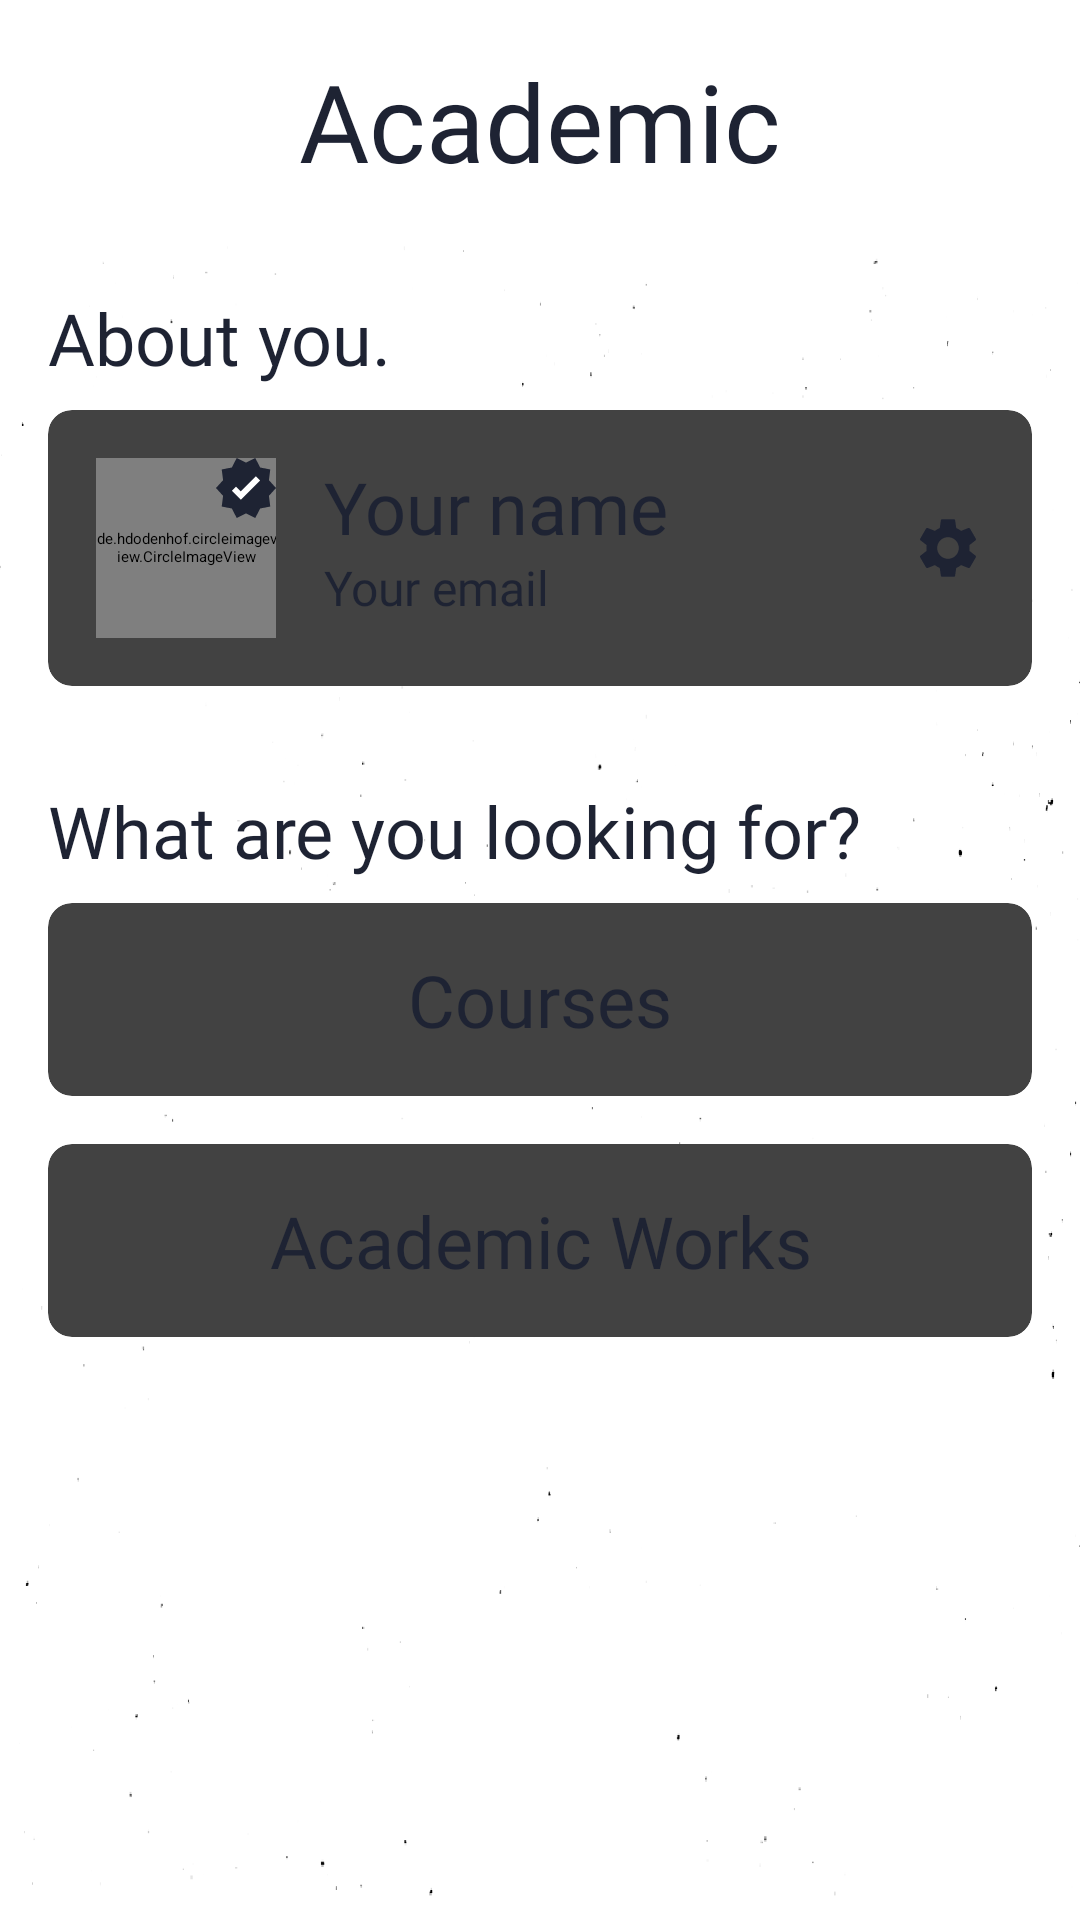

Icon click points for this 1080px×1920px phone screenshot, format (x=x, y=y):
settings: (x=948, y=548)
verified: (x=246, y=488)
